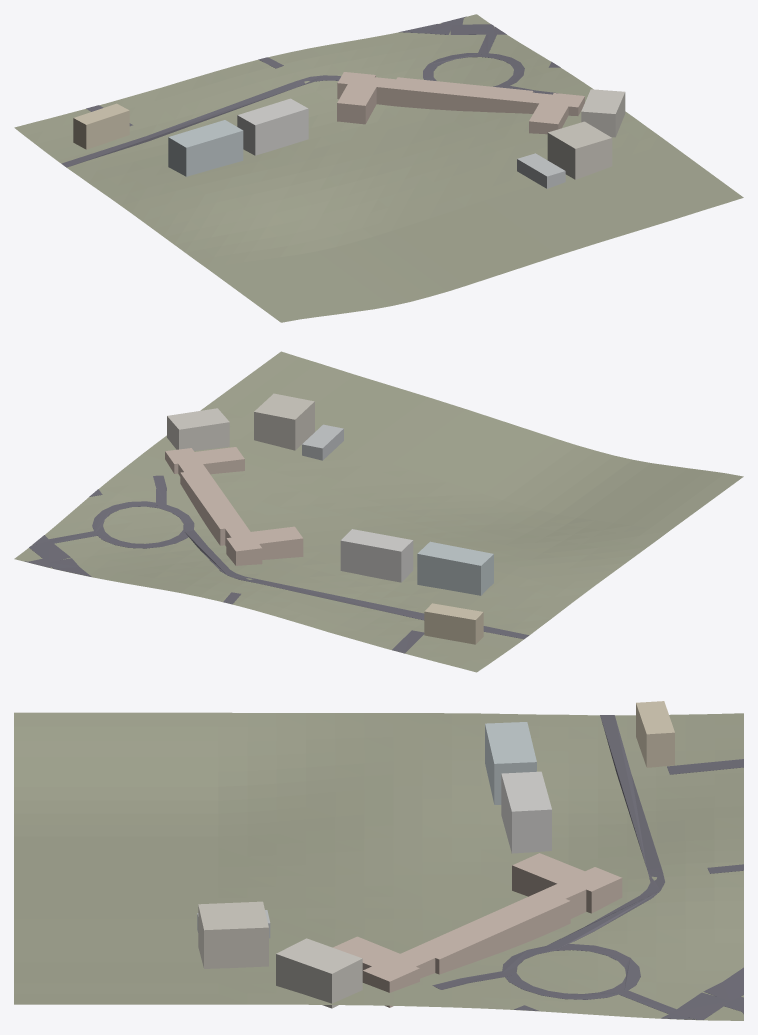
The model's file is chunk_5_9.glb.
The picture shows the model from 3 angles, top to bottom: view 1: azimuth 30°, elevation 25°; view 2: azimuth 150°, elevation 25°; view 3: azimuth 270°, elevation 25°; orthographic projection. The views are drawn at different scales.
Parts seen in each view (by area): view 1: geometry_7, geometry_0, geometry_2, geometry_3, geometry_4, geometry_6, geometry_14, geometry_1, geometry_5, geometry_12; view 2: geometry_7, geometry_0, geometry_2, geometry_3, geometry_4, geometry_1, geometry_14, geometry_6, geometry_12, geometry_5; view 3: geometry_7, geometry_0, geometry_4, geometry_1, geometry_14, geometry_3, geometry_2, geometry_12, geometry_6, geometry_18, geometry_10, geometry_9.
Boxes of the visible parts, x1,y1,x2,y2 form: geometry_7: (14,14,743,322); geometry_0: (337,72,584,134); geometry_2: (168,120,243,176); geometry_3: (237,98,308,155); geometry_4: (547,121,612,179); geometry_6: (73,103,129,149); geometry_14: (61,75,340,167); geometry_1: (581,89,625,137); geometry_5: (517,153,565,188); geometry_12: (423,53,524,87); geometry_7: (14,351,743,672); geometry_0: (165,447,303,565); geometry_2: (417,541,493,595); geometry_3: (340,529,413,582); geometry_4: (254,393,314,450); geometry_1: (167,408,229,450); geometry_14: (184,530,528,639); geometry_6: (424,603,483,644); geometry_12: (92,501,194,548); geometry_5: (302,424,343,460); geometry_7: (14,712,743,1020); geometry_0: (333,853,622,1007); geometry_4: (198,901,268,968); geometry_1: (276,938,362,1008); geometry_14: (546,715,664,949); geometry_3: (501,771,551,853); geometry_2: (485,722,536,804); geometry_12: (502,944,640,999); geometry_6: (636,701,674,767); geometry_18: (672,992,729,1019); geometry_10: (703,967,743,1000); geometry_9: (667,759,743,774).
Bounding box in the file's own units: 250 × 24.22 × 250.
